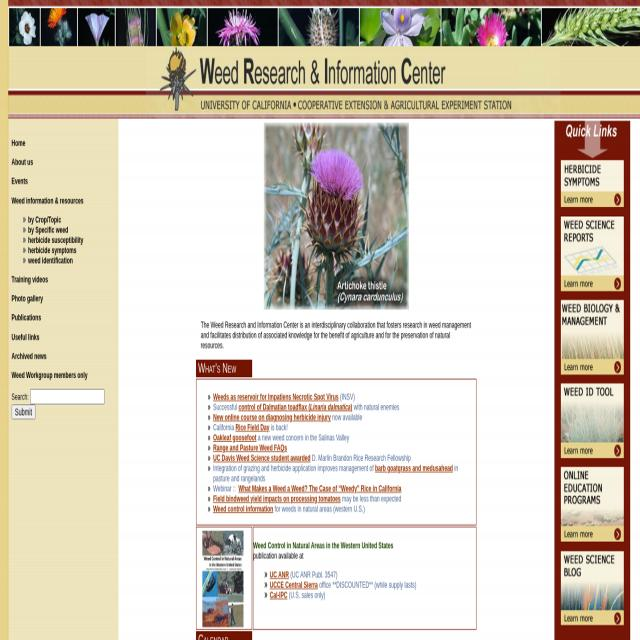button: (263, 123, 408, 309), (560, 383, 624, 460), (560, 299, 624, 374), (562, 466, 625, 542), (560, 551, 624, 624), (561, 217, 624, 291), (202, 531, 242, 627), (560, 158, 624, 207), (11, 403, 34, 419)
field: (29, 389, 104, 405)
